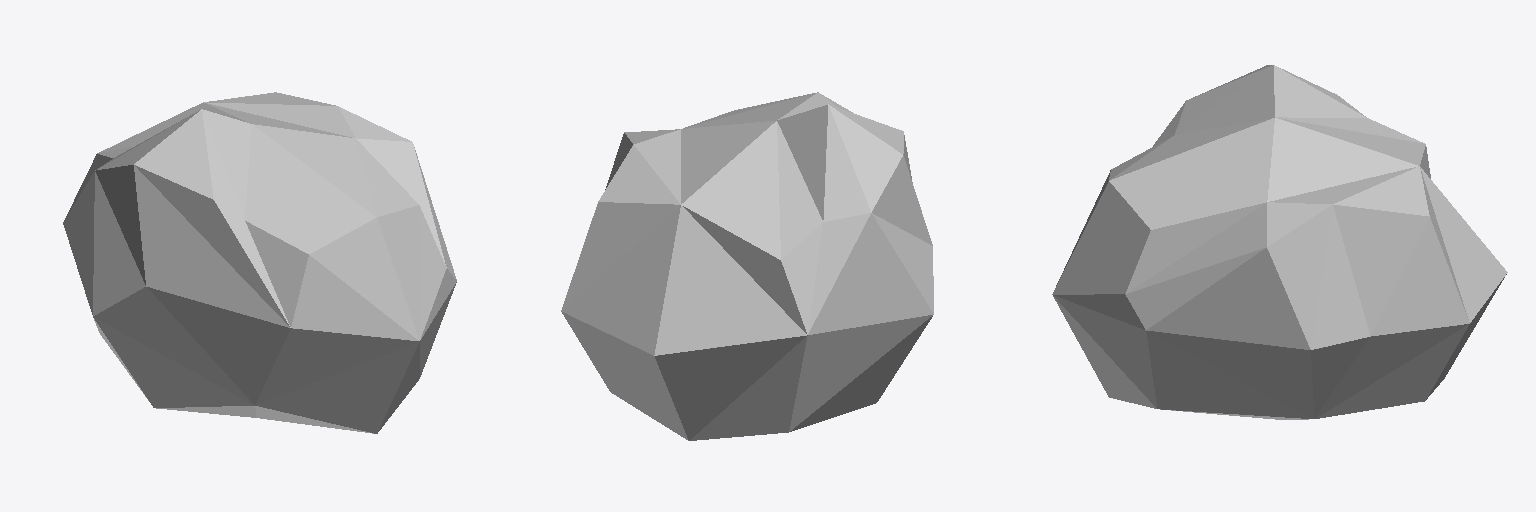
Rendered from asteroid.obj.
3 renders of one model, left to right at view 1: azimuth 30°, elevation 25°; view 2: azimuth 150°, elevation 25°; view 3: azimuth 270°, elevation 25°, orthographic.
Visible parts, largest first — view 1: SimpleAsteroid_SimpleAsteroidMesh; view 2: SimpleAsteroid_SimpleAsteroidMesh; view 3: SimpleAsteroid_SimpleAsteroidMesh.
Boxes of the visible parts, <box> form: SimpleAsteroid_SimpleAsteroidMesh: <box>63,92,456,433</box>; SimpleAsteroid_SimpleAsteroidMesh: <box>561,92,933,440</box>; SimpleAsteroid_SimpleAsteroidMesh: <box>1052,65,1507,419</box>.
Bounding box in the file's own units: 2.03 × 1.92 × 2.43.